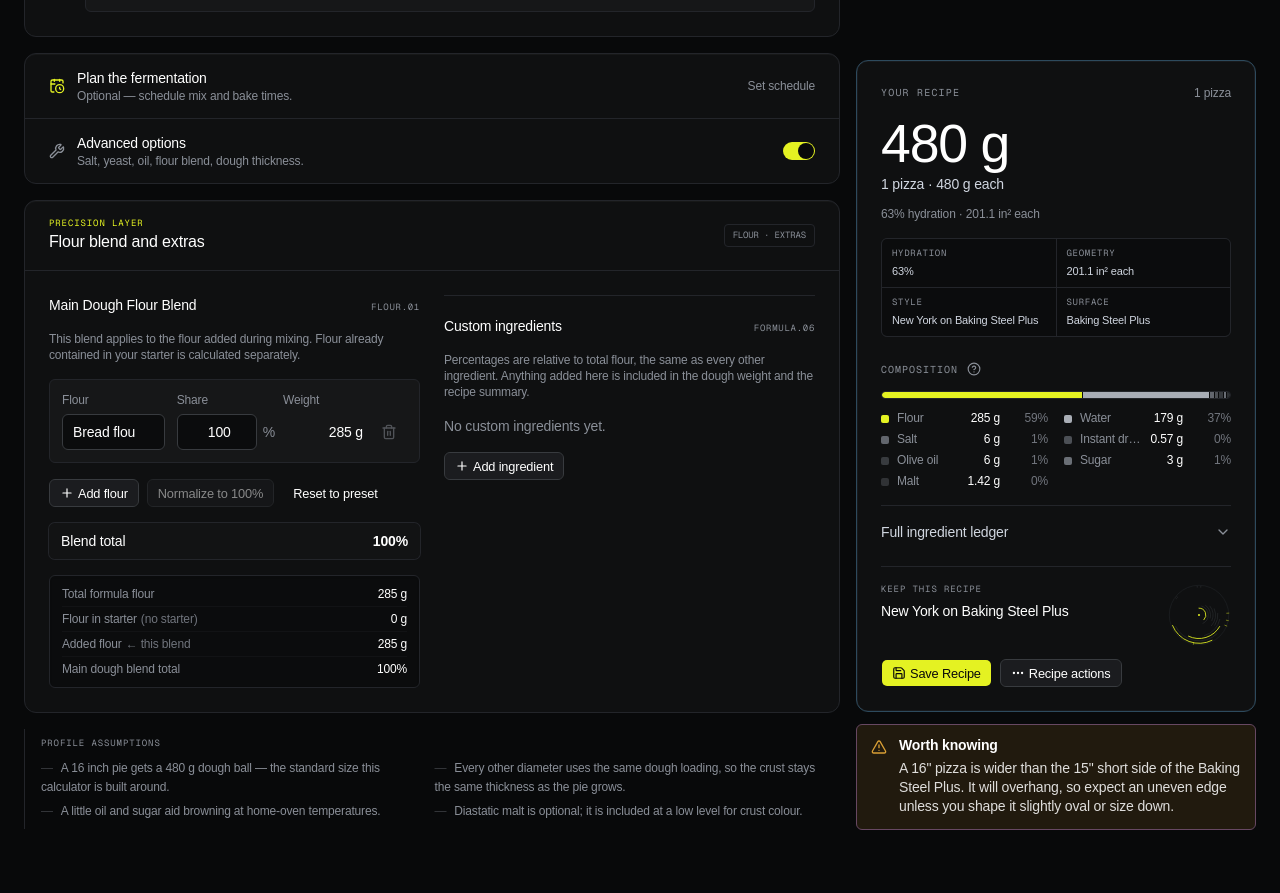
Test: blend validation › flags a blend that does not total 100 percent
This screenshot has width=1280, height=893.
(page scrolled)
# A second row at 0% leaves the blend at 100, so drop the first to 60.
Step 1. Click the button "Add flour" → {"x": 94, "y": 493}, box [49,479,139,507]
(page scrolled)
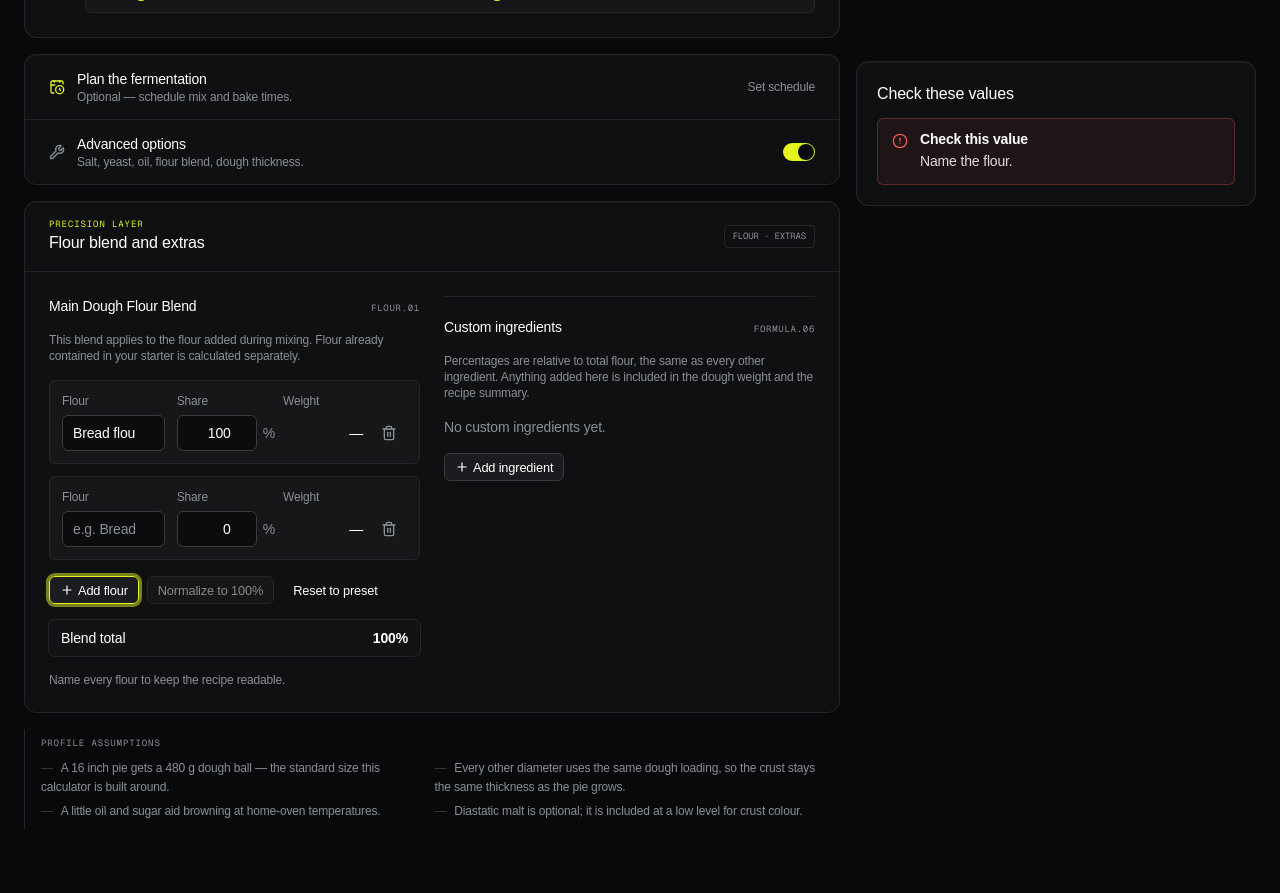
Step 2. Replace the text in the 1st number field labelled "Share" with "60" → {"x": 217, "y": 433}, box [177,415,257,451]
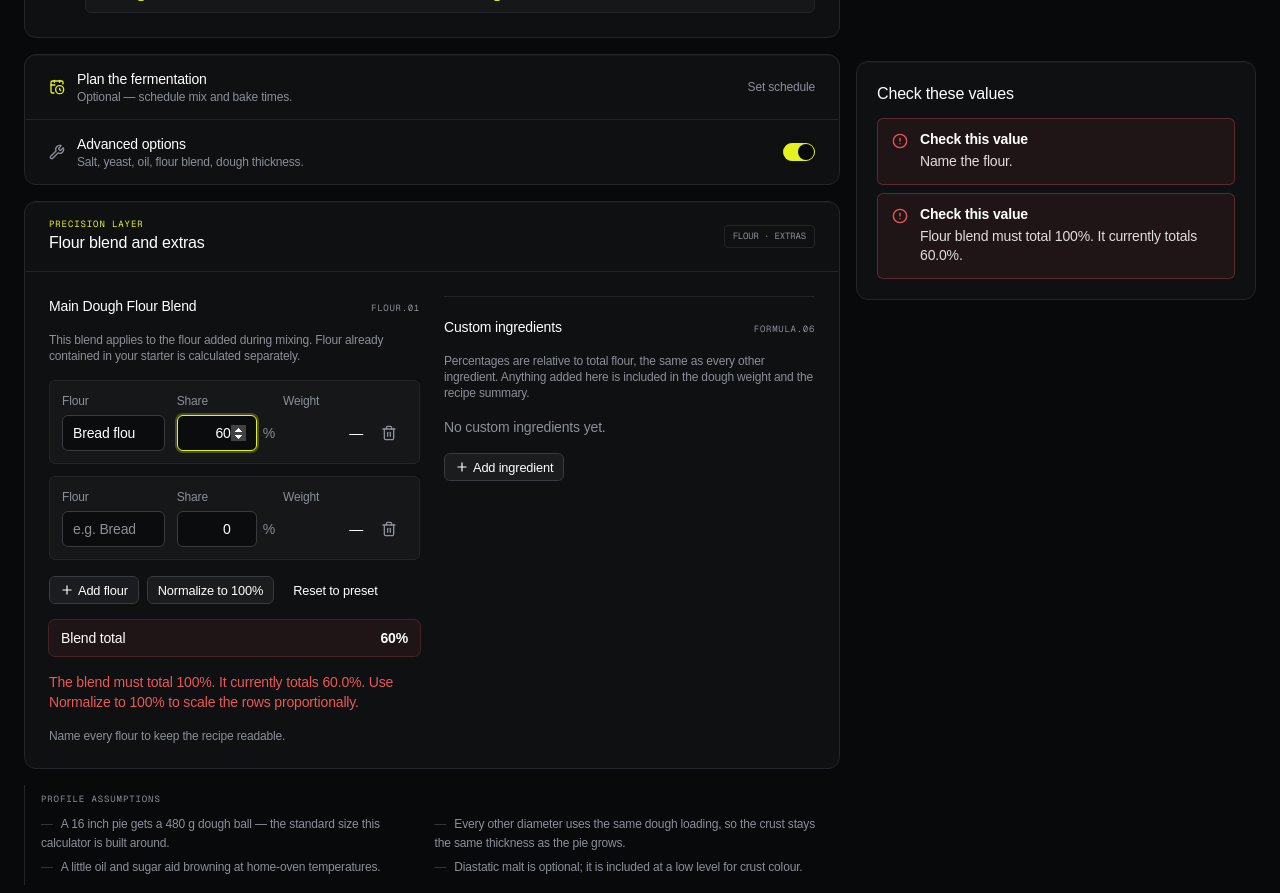
Result: the message shows "must total 100%" at [49,674,322,690]
Result: the message shows "60" at [322,674,349,690]
